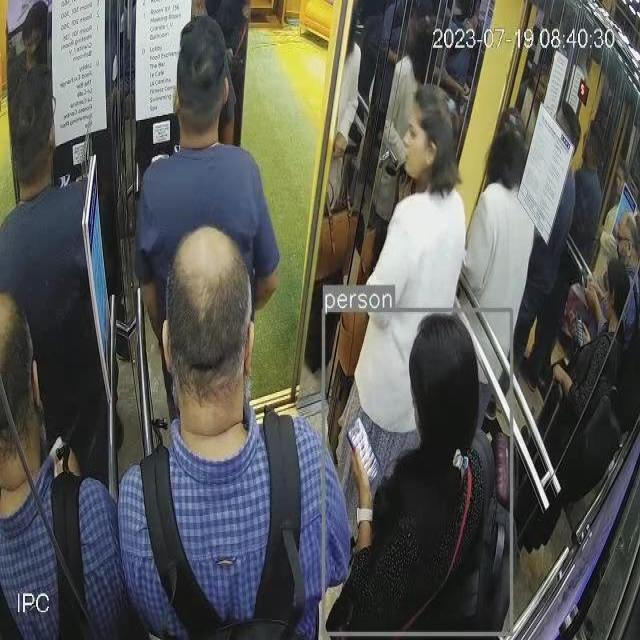person: (121, 236, 351, 640), (325, 310, 516, 640), (135, 20, 273, 445), (0, 81, 115, 483), (357, 100, 475, 491), (0, 292, 123, 640), (525, 250, 635, 538), (611, 211, 640, 440)
